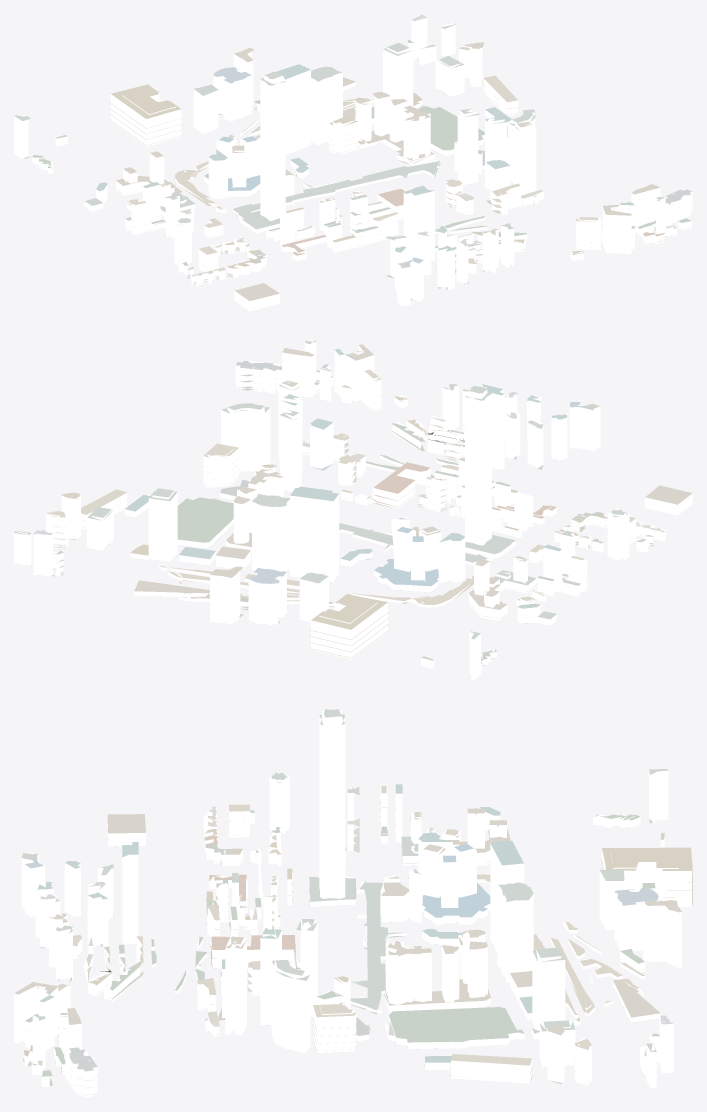
Rendered from buildings-7_0-coarse.glb.
3 views of the same model, one above another, from view 1: azimuth 30°, elevation 25°; view 2: azimuth 150°, elevation 25°; view 3: azimuth 270°, elevation 25° (orthographic). The views are drawn at different scales.
Parts seen in each view (by area): view 1: block_7_0_office, block_7_0_residential, block_7_0_roof; view 2: block_7_0_office, block_7_0_roof, block_7_0_residential; view 3: block_7_0_office, block_7_0_roof, block_7_0_residential.
Part boxes in pixels (x1=…): block_7_0_office: x1=14, y1=17, x2=665, y2=311; block_7_0_residential: x1=32, y1=43, x2=692, y2=286; block_7_0_roof: x1=14, y1=14, x2=691, y2=300; block_7_0_office: x1=14, y1=340, x2=692, y2=680; block_7_0_roof: x1=14, y1=340, x2=692, y2=665; block_7_0_residential: x1=46, y1=361, x2=665, y2=669; block_7_0_office: x1=14, y1=710, x2=681, y2=1088; block_7_0_roof: x1=14, y1=709, x2=692, y2=1097; block_7_0_residential: x1=23, y1=786, x2=691, y2=1097.
Size of the model in its own units: 665 by 206 by 680.
